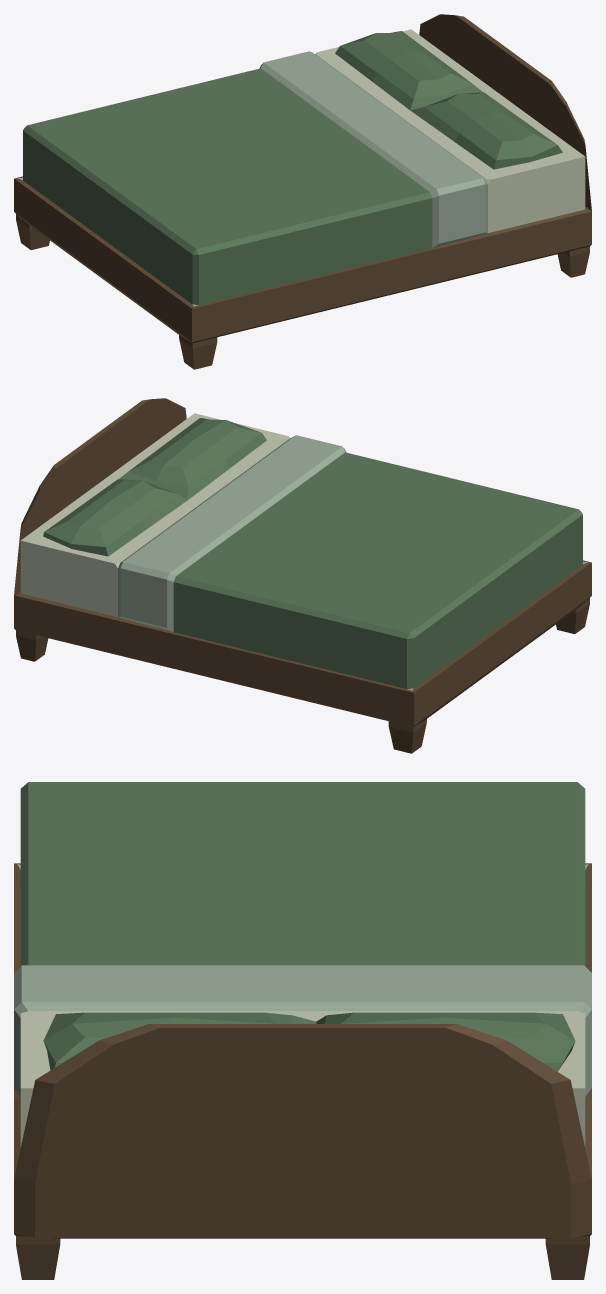
Rendered from DoubleBed.fbx.
3 views of the same model, one above another, from view 1: azimuth 30°, elevation 25°; view 2: azimuth 150°, elevation 25°; view 3: azimuth 270°, elevation 25° (orthographic). The views are drawn at different scales.
Parts seen in each view (by area): view 1: pCube39; view 2: pCube39; view 3: pCube39.
Part boxes in pixels (x1=…): pCube39: x1=14, y1=14, x2=591, y2=369; pCube39: x1=14, y1=398, x2=591, y2=753; pCube39: x1=14, y1=782, x2=591, y2=1279.
Bounding box in the file's own units: 105 × 39.71 × 80.17.
